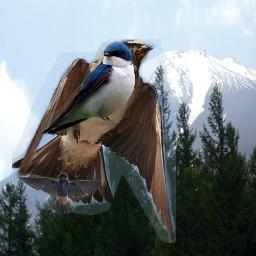Swallow: (12, 39, 176, 243), (41, 41, 139, 135), (16, 172, 103, 214)
